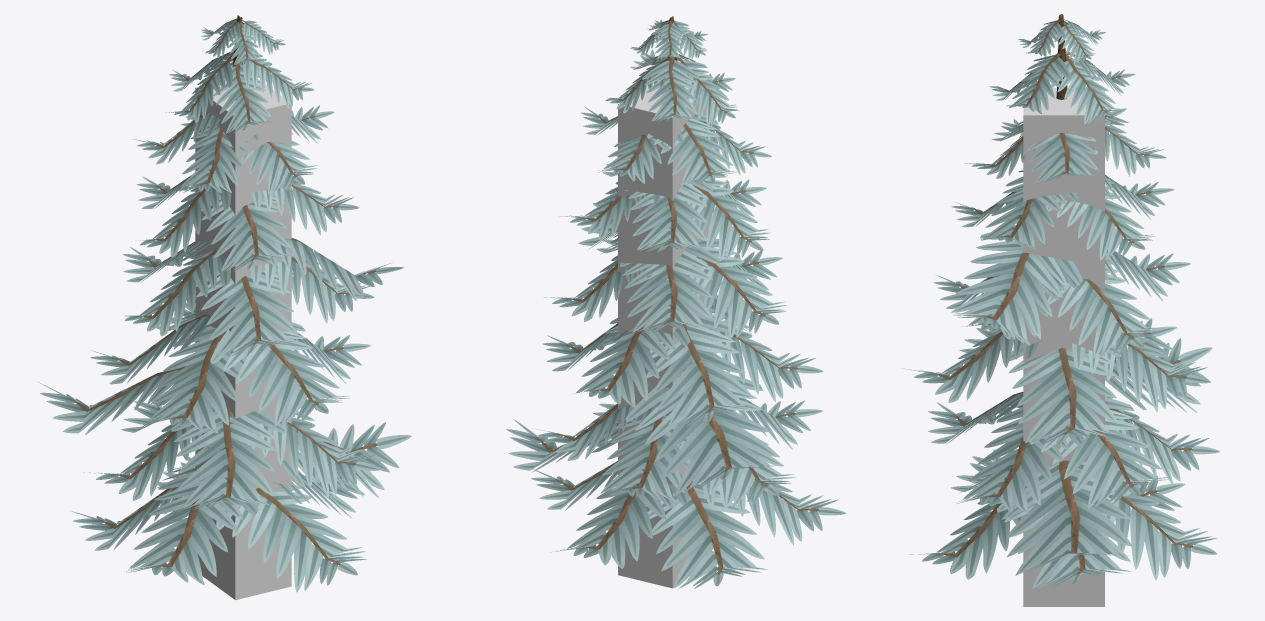
The model's file is pine_white_1.glb.
3 renders of one model, left to right at view 1: azimuth 30°, elevation 25°; view 2: azimuth 150°, elevation 25°; view 3: azimuth 270°, elevation 25°, orthographic. The views are drawn at different scales.
Parts seen in each view (by area): view 1: Pine_5, Cube.003; view 2: Pine_5, Cube.003; view 3: Pine_5, Cube.003.
Part boxes in pixels (x1,y1,x2,y2): Pine_5: (38, 15, 411, 592); Cube.003: (195, 75, 291, 600); Pine_5: (506, 16, 845, 588); Cube.003: (618, 80, 711, 588); Pine_5: (902, 14, 1219, 588); Cube.003: (1023, 87, 1104, 606).
Size of the model in its own units: 6.8 by 10.36 by 6.04.
2 materials, 2 textured.
